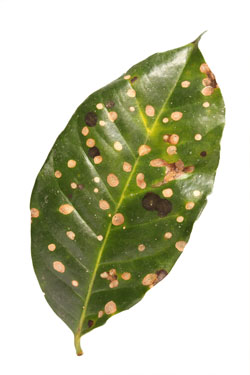ojo de gallo: (37, 74, 210, 314)
